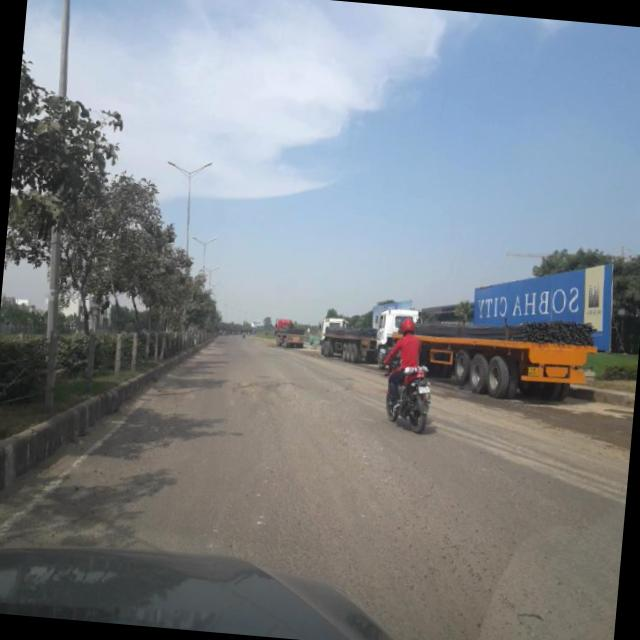pothole: (224, 361, 324, 412)
